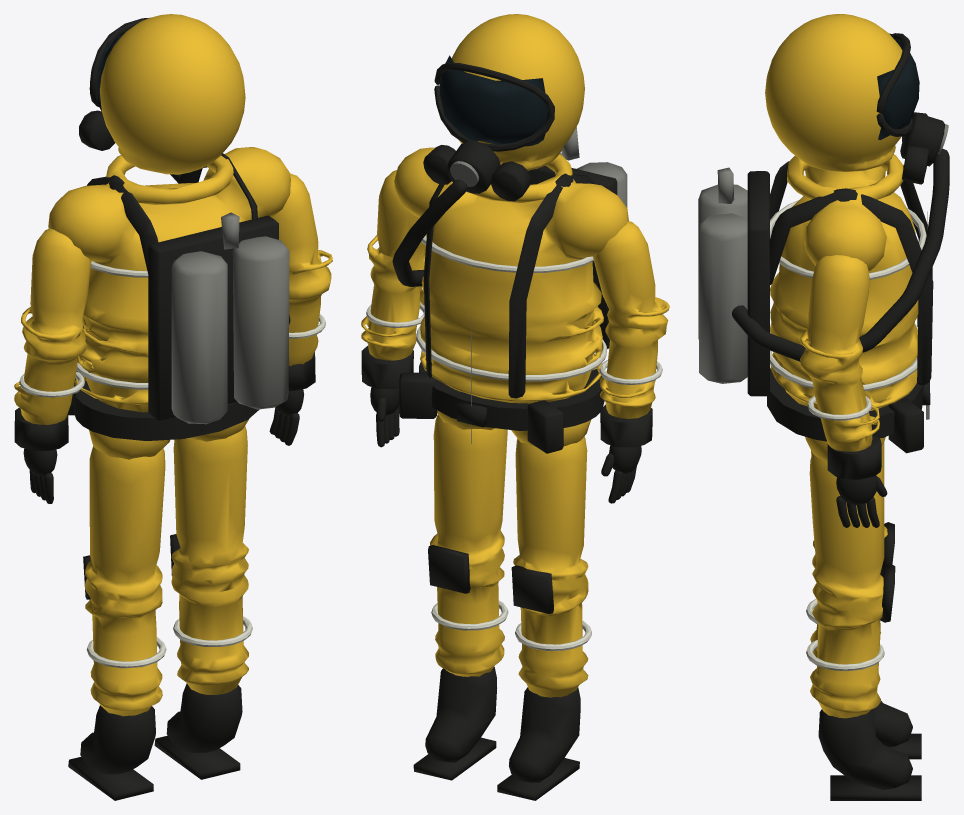
The model's file is player.glb.
The picture shows the model from 3 angles, left to right: view 1: azimuth 30°, elevation 25°; view 2: azimuth 150°, elevation 25°; view 3: azimuth 270°, elevation 25°; orthographic projection. The views are drawn at different scales.
Visible parts, largest first — view 1: player_body, player_metal, player_hood, player_legL_leg, player_legR_leg, player_gear, player_armL_sleeve, player_armR_sleeve, player_legR_boot, player_legL_boot, player_armL_glove, player_armR_glove (+4 smaller); view 2: player_body, player_legR_leg, player_legL_leg, player_gear, player_armL_sleeve, player_hood, player_legR_boot, player_legL_boot, player_armR_sleeve, player_visor, player_mask, player_armL_glove (+6 smaller); view 3: player_body, player_hood, player_gear, player_legR_leg, player_armR_sleeve, player_metal, player_legR_boot, player_hose, player_armR_glove, player_mask, player_legL_boot, player_visor (+3 smaller).
Part boxes in pixels (x1,y1,x2,y2): player_body: (48,147,290,459); player_metal: (171,212,289,424); player_hood: (100,14,245,174); player_legL_leg: (84,446,165,716); player_legR_leg: (171,426,248,694); player_gear: (68,153,278,440); player_armL_sleeve: (14,228,91,424); player_armR_sleeve: (272,173,332,366); player_legR_boot: (154,534,242,779); player_legL_boot: (68,555,155,800); player_armL_glove: (14,407,68,503); player_armR_glove: (269,352,315,445); player_body: (394,147,628,446); player_legR_leg: (430,414,507,676); player_legL_leg: (513,436,588,697); player_gear: (399,165,617,453); player_armL_sleeve: (593,221,669,418); player_hood: (451,14,584,170); player_legR_boot: (413,545,496,780); player_legL_boot: (497,565,580,800); player_armR_sleeve: (361,170,426,360); player_visor: (440,55,547,146); player_mask: (423,62,554,201); player_armL_glove: (600,404,652,503); player_body: (770,154,918,462); player_hood: (765,14,902,171); player_gear: (747,161,933,453); player_legR_leg: (809,453,884,718); player_armR_sleeve: (800,255,879,451); player_metal: (698,167,929,419); player_legR_boot: (818,564,921,800); player_hose: (732,148,949,361); player_armR_glove: (827,434,887,527); player_mask: (876,33,944,184); player_legL_boot: (872,522,921,759); player_visor: (877,33,919,140).
Size of the model in its own units: 0.7373 by 1.77 by 0.5362.
